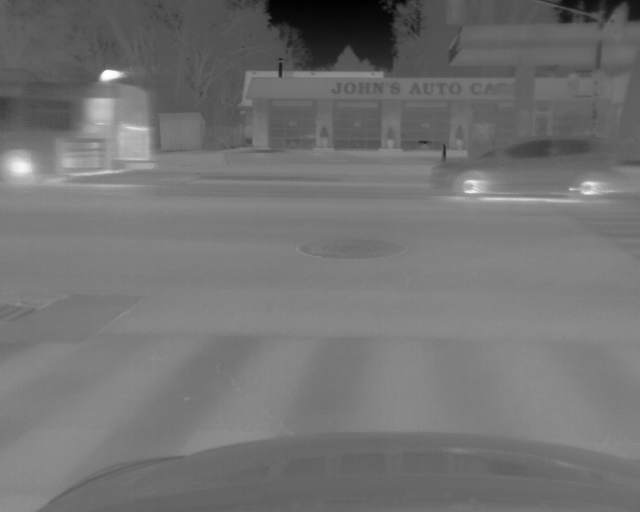car: (1, 74, 153, 192), (429, 133, 620, 199)
